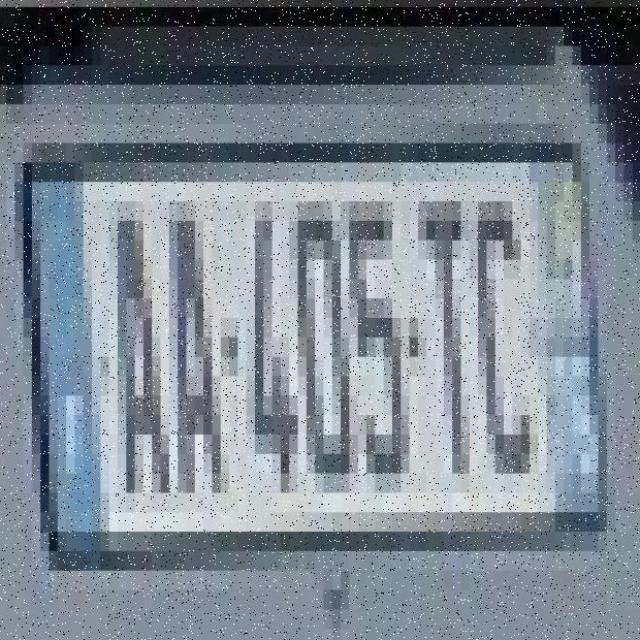license-plate: (33, 162, 604, 558)
